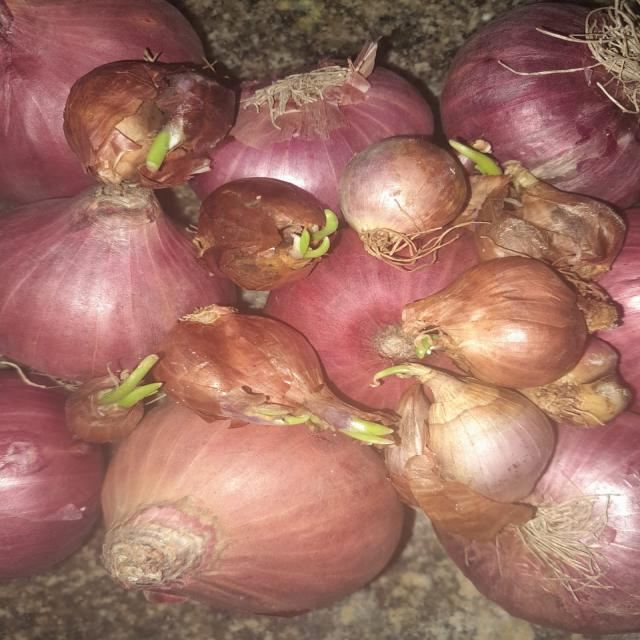sprouting: (281, 396, 400, 450), (436, 134, 520, 190), (373, 346, 461, 390), (78, 366, 150, 412), (274, 218, 346, 255)
